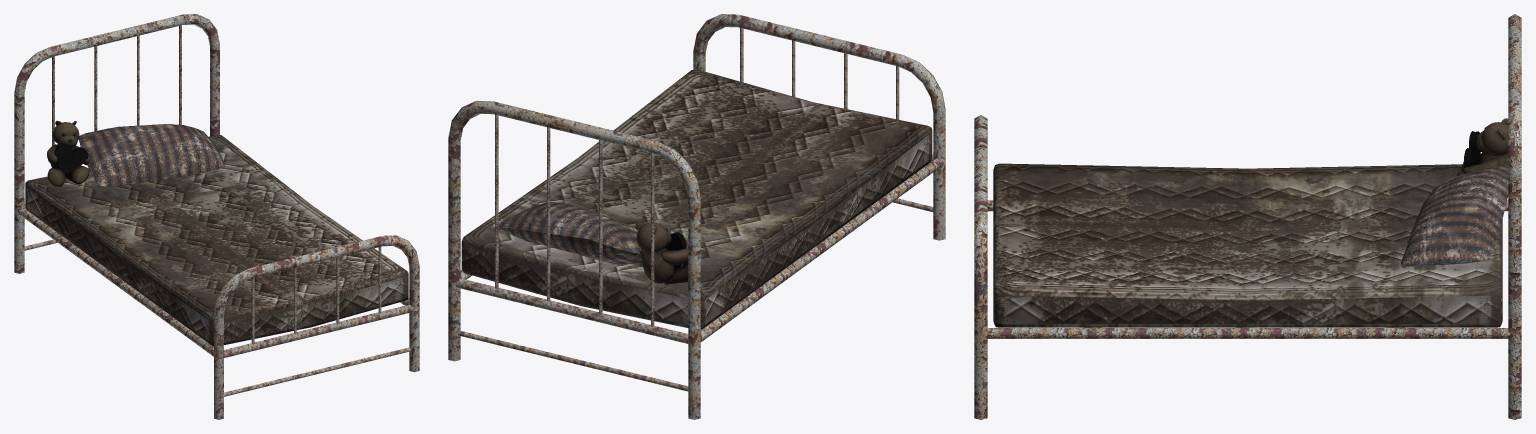
The model's file is OldBed_Ted_Scare.FBX.
3 renders of one model, left to right at view 1: azimuth 30°, elevation 25°; view 2: azimuth 150°, elevation 25°; view 3: azimuth 270°, elevation 25°, orthographic. The views are drawn at different scales.
Visible parts, largest first — view 1: Obj_OldBed_Ted_Scare-Frame, Obj_OldBed_Ted_Scare-Heart, Obj_OldBed_Ted_Scare-head; view 2: Obj_OldBed_Ted_Scare-Frame, Obj_OldBed_Ted_Scare-head; view 3: Obj_OldBed_Ted_Scare-Frame, Obj_OldBed_Ted_Scare-head.
Part boxes in pixels (bbox=[...]): Obj_OldBed_Ted_Scare-Frame: bbox=[14, 14, 419, 419]; Obj_OldBed_Ted_Scare-Heart: bbox=[55, 143, 88, 174]; Obj_OldBed_Ted_Scare-head: bbox=[52, 120, 79, 147]; Obj_OldBed_Ted_Scare-Frame: bbox=[448, 14, 945, 419]; Obj_OldBed_Ted_Scare-head: bbox=[635, 221, 671, 251]; Obj_OldBed_Ted_Scare-Frame: bbox=[974, 14, 1521, 419]; Obj_OldBed_Ted_Scare-head: bbox=[1476, 118, 1508, 155].
Bounding box in the file's own units: 162 × 163 × 278.
4 materials, 4 textured.
